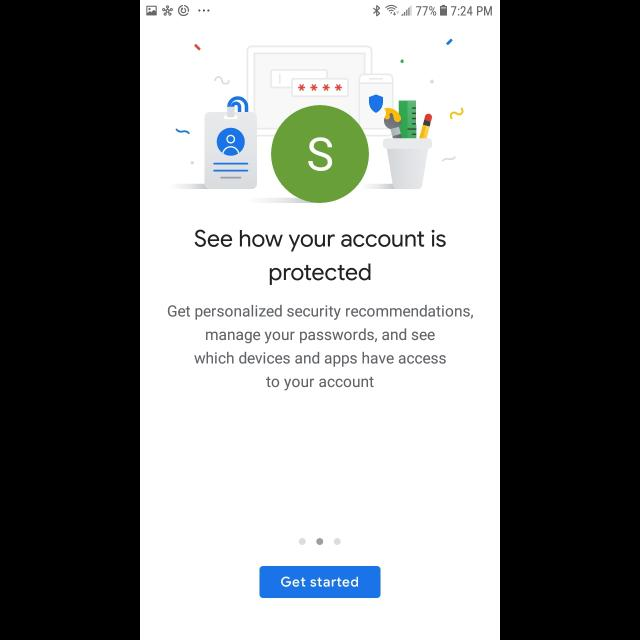image: (176, 38, 464, 204)
pageindicator: (298, 538, 342, 546)
text: (168, 305, 474, 391), (194, 229, 446, 285)
textbutton: (260, 566, 380, 598)
uppertaskbar: (140, 1, 500, 17)
